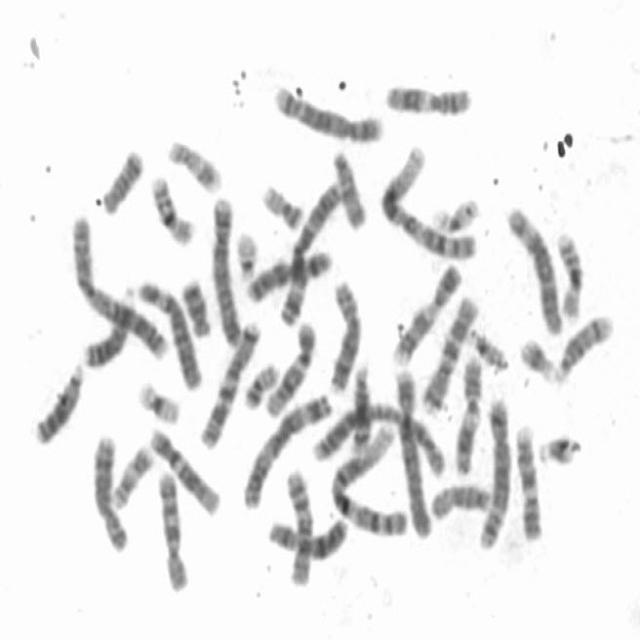A1: (375, 137, 481, 262), (324, 412, 412, 539)
A2: (66, 209, 171, 362), (306, 398, 450, 479)
A3: (237, 384, 335, 511), (275, 172, 345, 328)
B4: (390, 359, 437, 540), (208, 188, 246, 347)
B5: (269, 77, 386, 145), (473, 389, 513, 552)
C10: (153, 463, 192, 595), (281, 462, 315, 586)
C11: (450, 349, 485, 476), (380, 76, 475, 118)
C12: (146, 420, 222, 518), (262, 314, 319, 419)
C6: (503, 198, 566, 337), (133, 272, 204, 392)
C7: (196, 314, 264, 450), (417, 288, 481, 415)
C8: (88, 427, 130, 554), (325, 272, 365, 395)
C9: (388, 257, 463, 367), (512, 418, 546, 543)
D13: (78, 279, 138, 370), (29, 355, 87, 447)
D14: (550, 306, 616, 383), (347, 357, 374, 455)
D15: (329, 144, 370, 232), (426, 475, 495, 523)
E16: (146, 166, 197, 248), (552, 224, 586, 322)
E17: (163, 130, 225, 194), (107, 438, 155, 511)
E18: (98, 140, 146, 217), (176, 270, 214, 339)
F19: (426, 190, 482, 236), (134, 374, 182, 426)
F20: (258, 175, 308, 232), (240, 355, 282, 411)
G21: (515, 330, 560, 385), (534, 426, 584, 468)
G22: (462, 321, 510, 371), (230, 222, 260, 282)
X: (241, 241, 335, 305), (264, 507, 350, 561)
